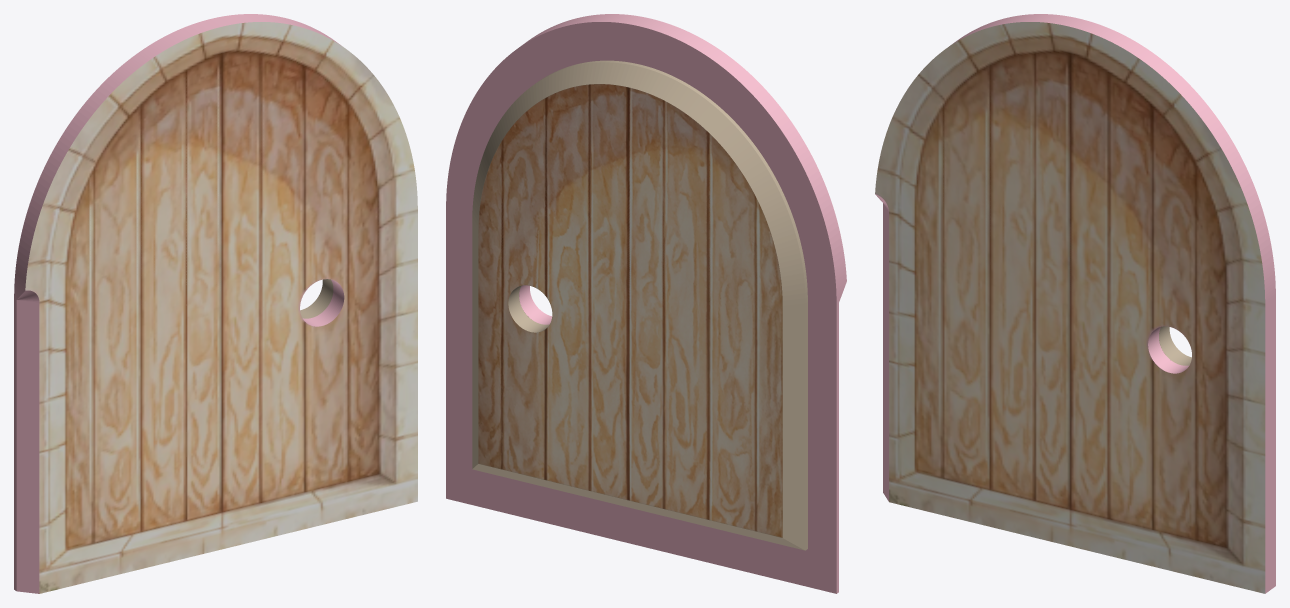
Rendered from p002-window-leaf.glb.
3 views of the same model, side by side, from view 1: azimuth 30°, elevation 25°; view 2: azimuth 150°, elevation 25°; view 3: azimuth 330°, elevation 25° (orthographic).
Parts seen in each view (by area): view 1: p002-window-leaf; view 2: p002-window-leaf; view 3: p002-window-leaf.
Part boxes in pixels (box(x1,y1,x2,y2)): p002-window-leaf: box(14, 14, 417, 593); p002-window-leaf: box(446, 14, 846, 593); p002-window-leaf: box(875, 14, 1275, 593).
Size of the model in its own units: 189 by 240 by 18.
4 materials, 2 textured.
